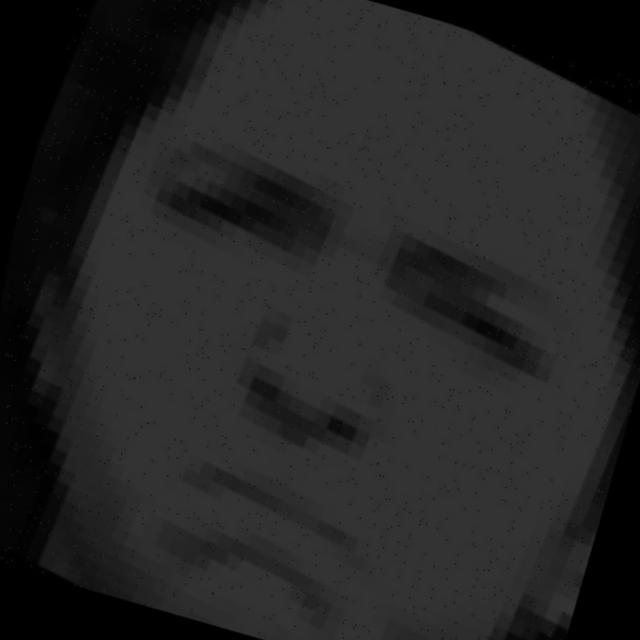Disgust: (69, 87, 640, 633)
